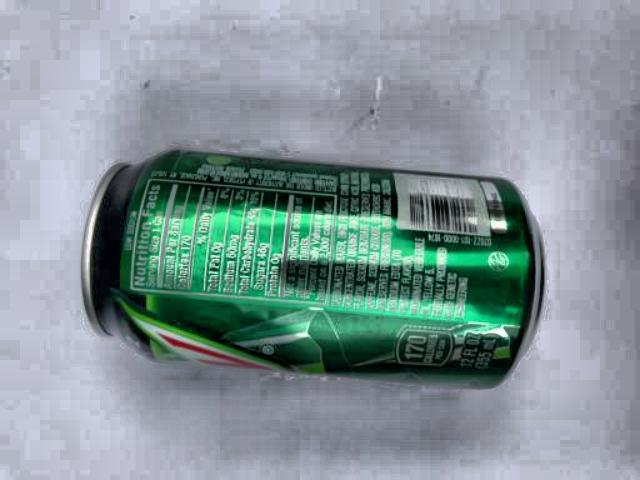Bottles: (73, 123, 556, 416)
